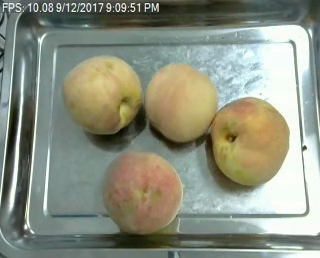Peach: (209, 95, 289, 186), (61, 52, 142, 136), (103, 150, 182, 233), (145, 63, 217, 142)
